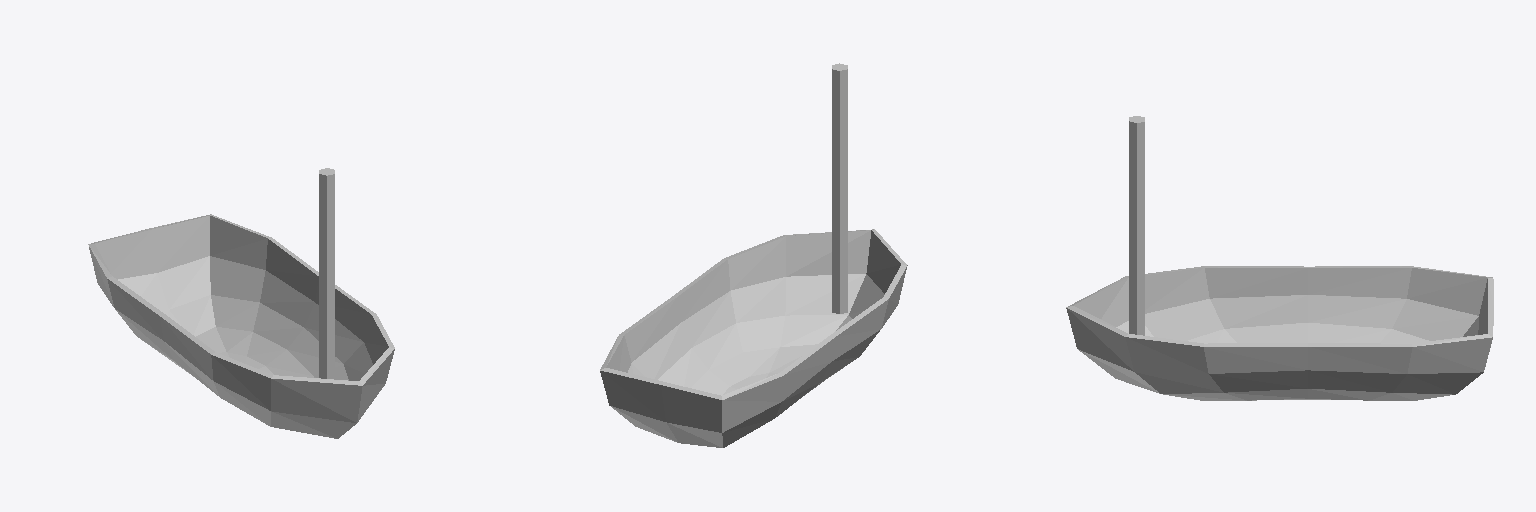
Rendered from boat_wood.obj.
3 renders of one model, left to right at view 1: azimuth 30°, elevation 25°; view 2: azimuth 150°, elevation 25°; view 3: azimuth 270°, elevation 25°, orthographic.
Parts seen in each view (by area): view 1: bateau_fond, bateau_mat; view 2: bateau_fond, bateau_mat; view 3: bateau_fond, bateau_mat.
Part boxes in pixels (x1,y1,x2,y2): bateau_fond: (88, 214, 394, 438); bateau_mat: (319, 168, 334, 379); bateau_fond: (600, 229, 907, 447); bateau_mat: (832, 63, 847, 313); bateau_fond: (1066, 266, 1493, 400); bateau_mat: (1129, 116, 1144, 335).
Size of the model in its own units: 6.37 by 10.03 by 14.24.